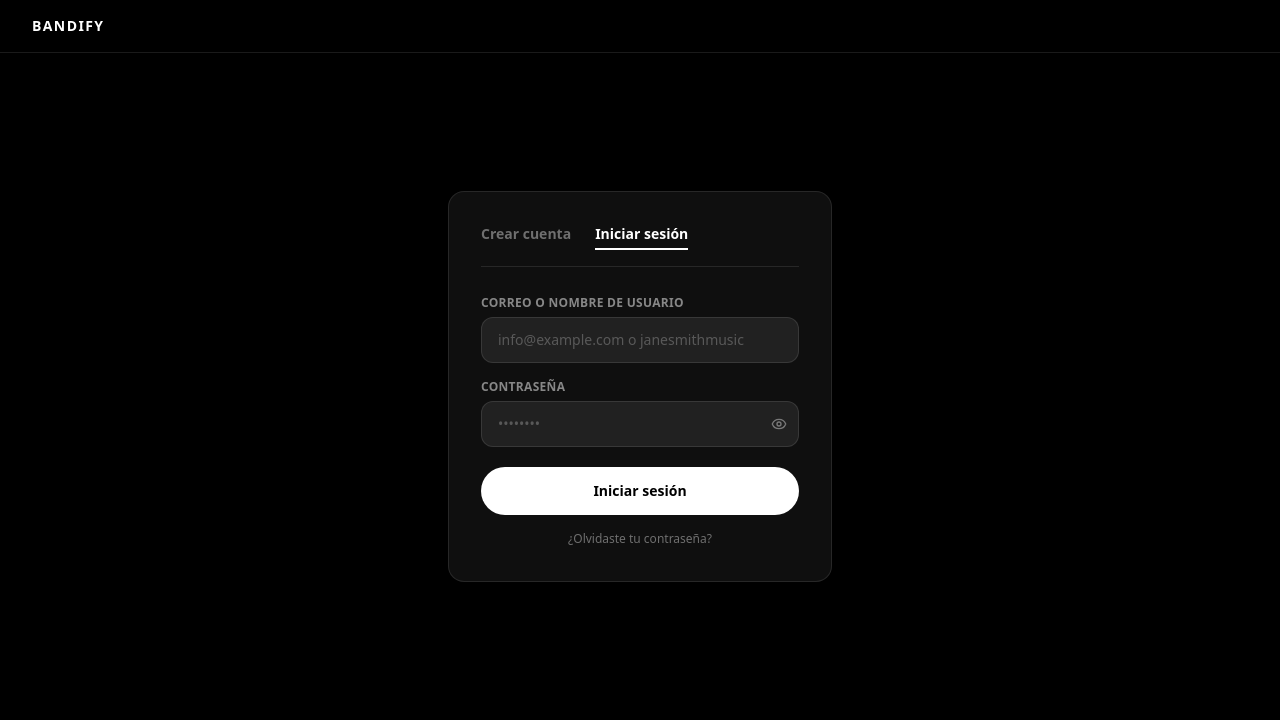
Test: Auth — recuperar / restablecer contraseña › muestra un error si el backend rechaza la solicitud de recuperación
This screenshot has width=1280, height=720.
Click the button "¿Olvidaste tu contraseña?".
click(640, 539)  # box top-left (481, 531), bottom-right (799, 547)
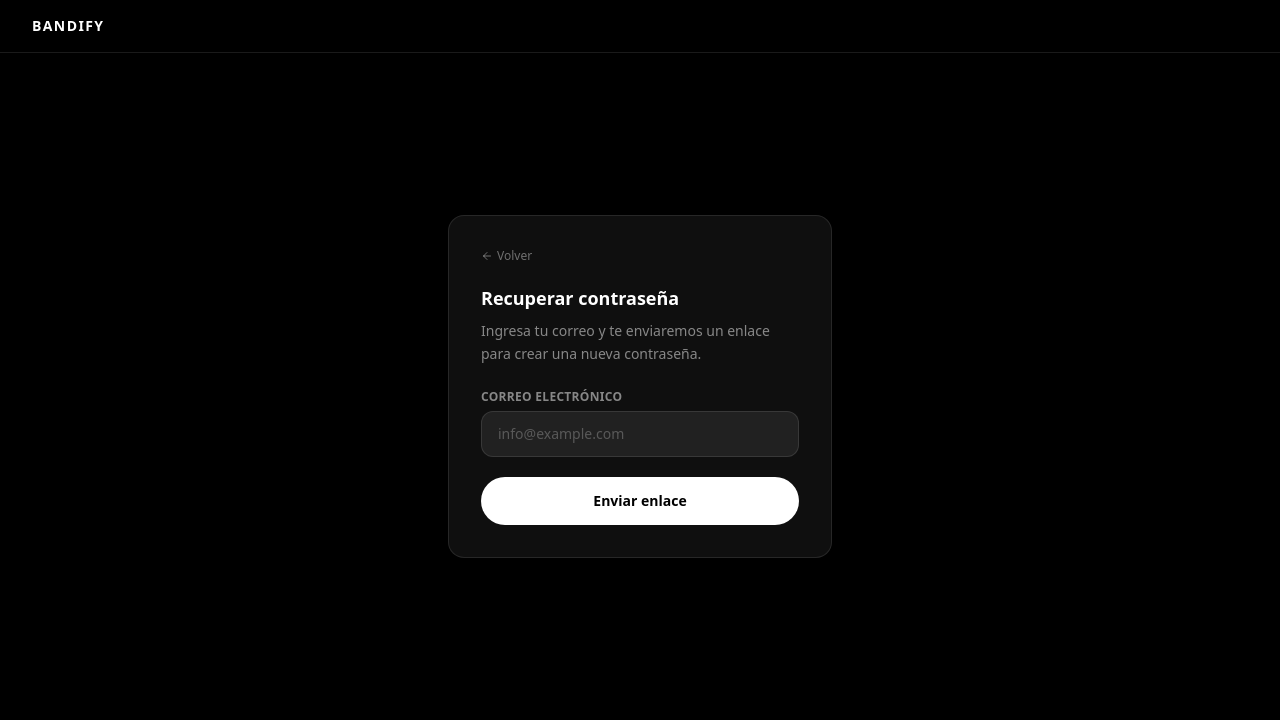
Type "ana@test.cl" into the field named "email".
click(640, 434); type("ana@test.cl")  # box top-left (481, 411), bottom-right (799, 457)
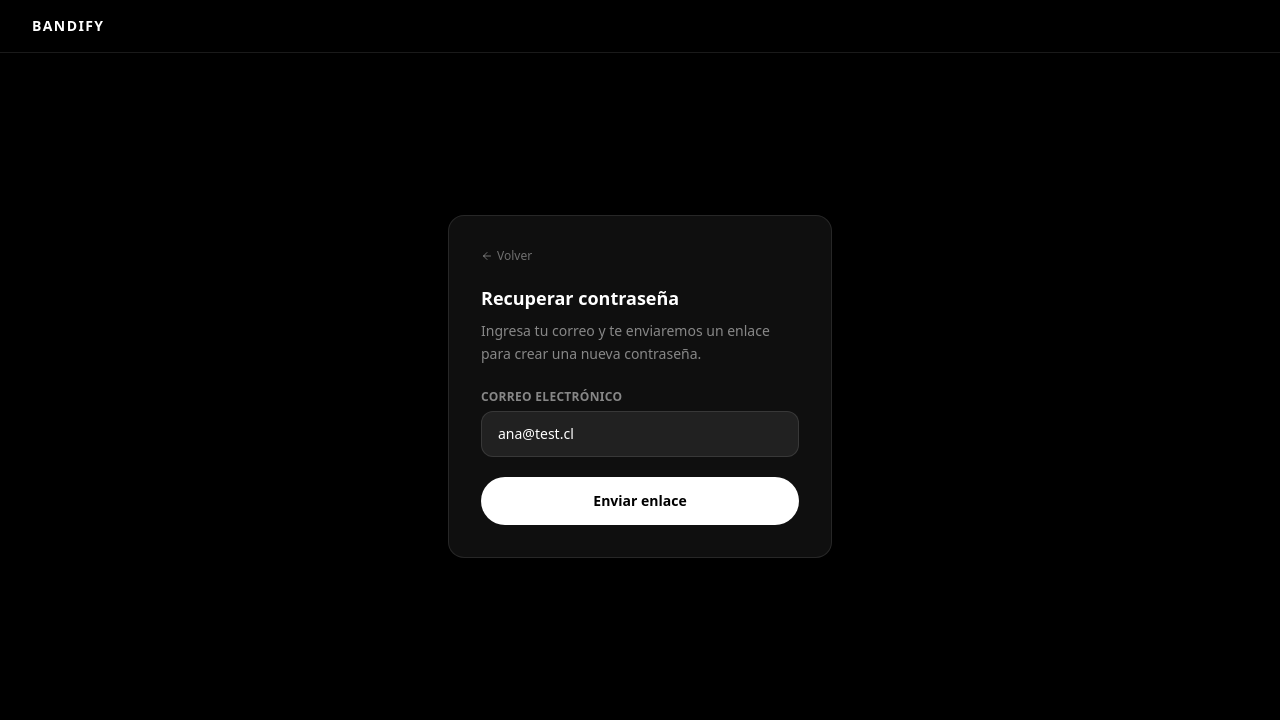
Click the submit button.
click(640, 501)  # box top-left (481, 477), bottom-right (799, 525)
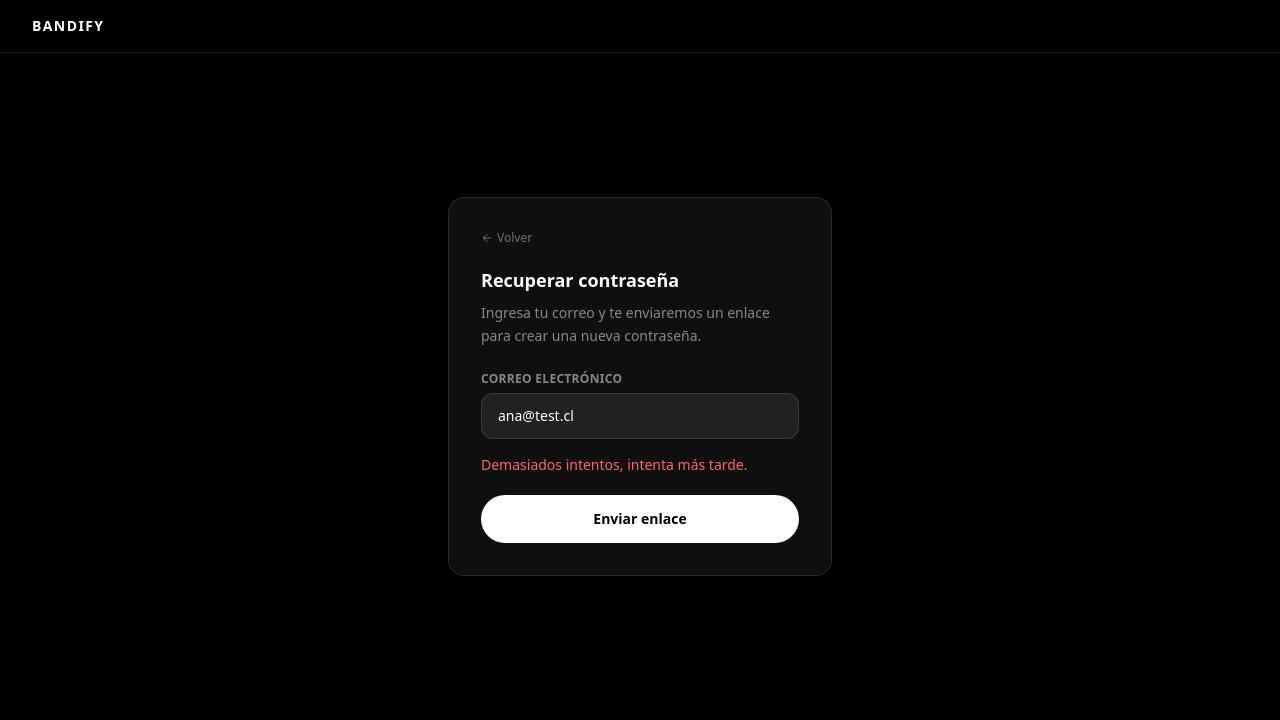
Expected: the text "Demasiados intentos, intenta más tarde." is shown, top-left (481, 455), bottom-right (748, 474)
